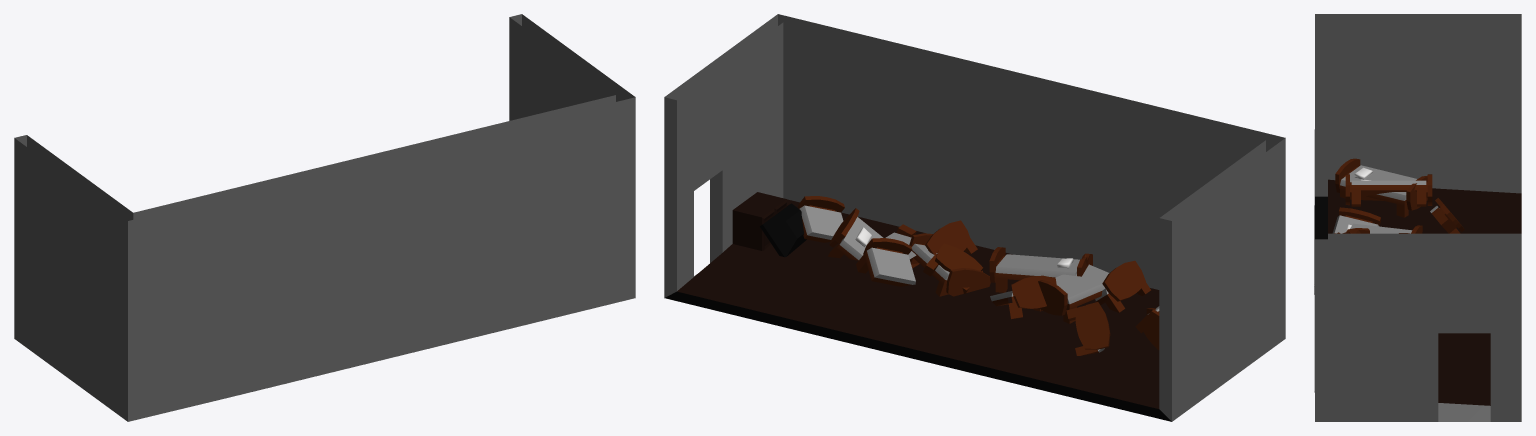
Rendered from hospital3_2.FBX.
3 renders of one model, left to right at view 1: azimuth 30°, elevation 25°; view 2: azimuth 150°, elevation 25°; view 3: azimuth 270°, elevation 25°, orthographic. The views are drawn at different scales.
Visible parts, largest first — view 1: Box008; view 2: Box008; view 3: Box008.
Boxes of the visible parts, x1,y1,x2,y2 form: Box008: [14, 14, 635, 421]; Box008: [664, 14, 1285, 421]; Box008: [1314, 14, 1521, 421].
Bounding box in the file's own units: 1258 × 476 × 489.
